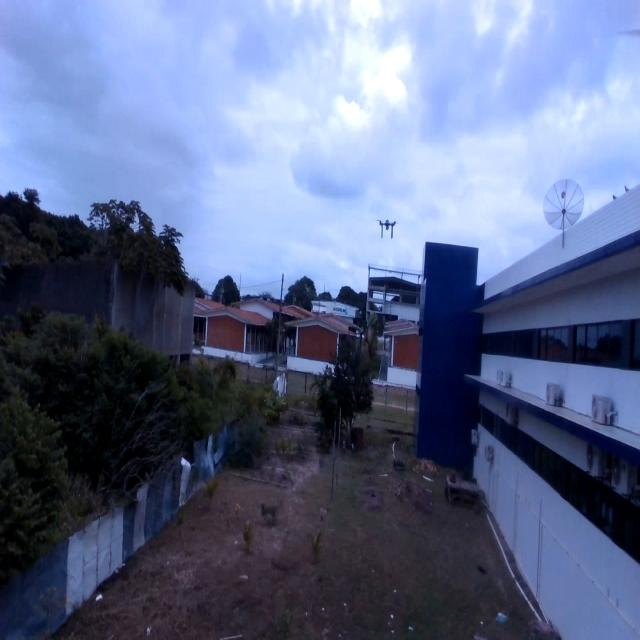-uav-: (375, 206, 399, 246)
